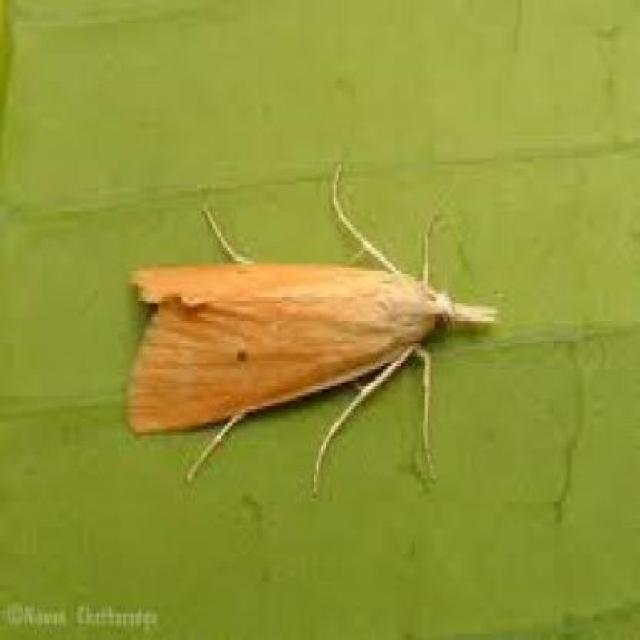stem-borer: (122, 244, 500, 448)
